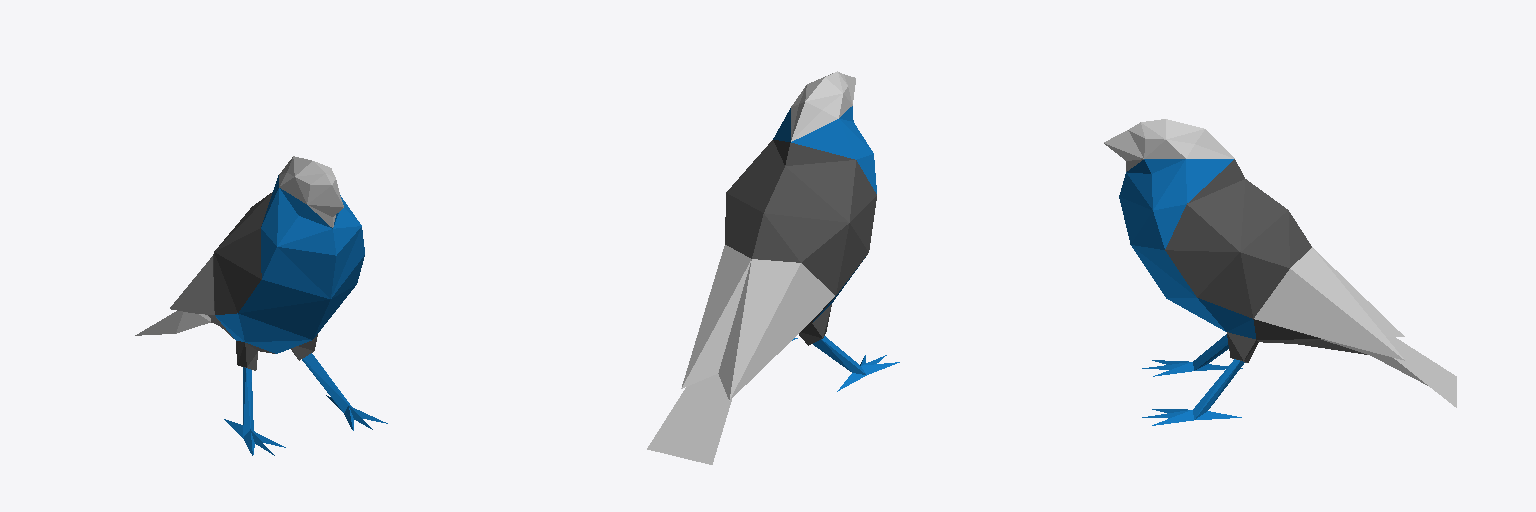
3 views of the same model, side by side, from view 1: azimuth 30°, elevation 25°; view 2: azimuth 150°, elevation 25°; view 3: azimuth 270°, elevation 25° (orthographic).
Visible parts, largest first — view 1: Plane_Plane_4; view 2: Plane_Plane_4; view 3: Plane_Plane_4.
Part boxes in pixels (x1,y1,x2,y2): Plane_Plane_4: (135,156,387,455); Plane_Plane_4: (647,71,899,464); Plane_Plane_4: (1104,119,1456,425).
Size of the model in its own units: 2.63 by 5.06 by 5.92.
Materials: 1 (1 with a texture image).